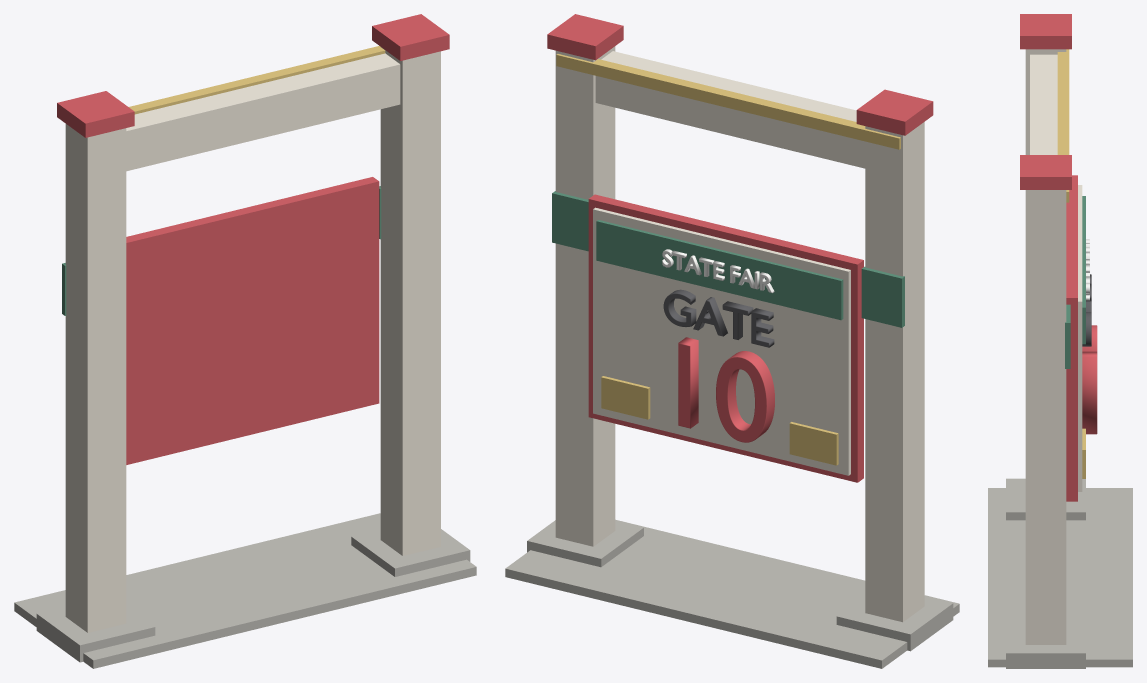
Rendered from state-fair-gate-10.glb.
3 views of the same model, side by side, from view 1: azimuth 30°, elevation 25°; view 2: azimuth 150°, elevation 25°; view 3: azimuth 270°, elevation 25° (orthographic). The views are drawn at different scales.
Parts seen in each view (by area): view 1: SFG_SignBack, SFG_PostL, SFG_PostR, SFG_Pad, SFG_HeaderBeam, SFG_FootingL, SFG_FootingR, SFG_PostCapL, SFG_PostCapR, SFG_HeaderAccent; view 2: SFG_SignFace, SFG_PostL, SFG_Pad, SFG_PostR, SFG_HeaderBeam, SFG_Ribbon, SFG_SignBack, SFG_HeaderAccent, SFG_GateNumber, SFG_FootingL, SFG_GateLabel, SFG_FootingR (+7 smaller); view 3: SFG_PostR, SFG_Pad, SFG_SignBack, SFG_FootingR, SFG_HeaderBeam, SFG_PostCapL, SFG_PostCapR, SFG_GateNumber, SFG_SignFace, SFG_HeaderAccent, SFG_FootingL, SFG_PostL (+4 smaller).
Boxes of the visible parts, x1,y1,x2,y2 form: SFG_SignBack: (126,177,379,464); SFG_PostL: (65,124,126,632); SFG_PostR: (380,47,440,555); SFG_Pad: (14,513,476,668); SFG_HeaderBeam: (126,53,400,171); SFG_FootingL: (36,606,155,662); SFG_FootingR: (351,529,470,576); SFG_PostCapL: (57,91,134,137); SFG_PostCapR: (372,14,449,60); SFG_HeaderAccent: (129,46,385,114); SFG_SignFace: (593,207,850,475); SFG_PostL: (865,122,924,622); SFG_Pad: (505,519,959,668); SFG_PostR: (555,46,615,546); SFG_HeaderBeam: (595,51,865,168); SFG_Ribbon: (596,220,843,320); SFG_SignBack: (588,194,863,482); SFG_HeaderAccent: (556,54,900,149); SFG_GateNumber: (678,337,774,442); SFG_FootingL: (836,596,953,651); SFG_GateLabel: (663,289,774,347); SFG_FootingR: (527,520,643,567); SFG_PostR: (1025,190,1066,644); SFG_Pad: (988,488,1132,667); SFG_SignBack: (1066,175,1077,501); SFG_FootingR: (1006,619,1085,668); SFG_HeaderBeam: (1030,54,1057,154); SFG_PostCapL: (1020,14,1071,49); SFG_PostCapR: (1020,155,1071,189); SFG_GateNumber: (1082,325,1097,434); SFG_SignFace: (1078,185,1082,491); SFG_HeaderAccent: (1057,49,1069,202); SFG_FootingL: (1006,478,1085,520); SFG_PostL: (1025,49,1066,154).
Size of the model in its own units: 2.85 by 3.7 by 1.
